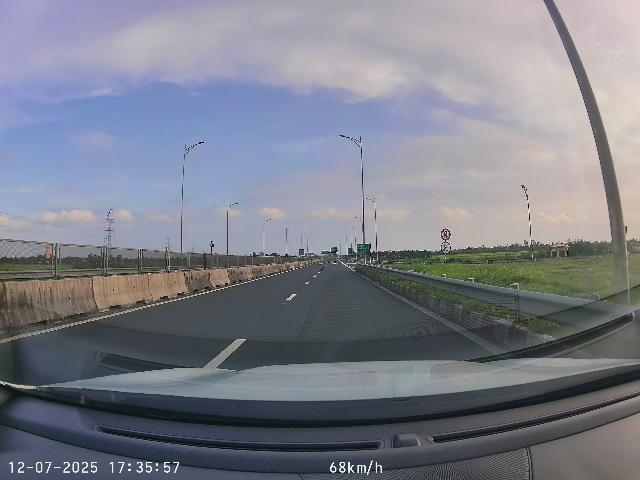124a-cam-quay-dau-xe: (441, 228, 451, 241)
134-het-han-che-toc-do-toi-da: (441, 241, 451, 254)
